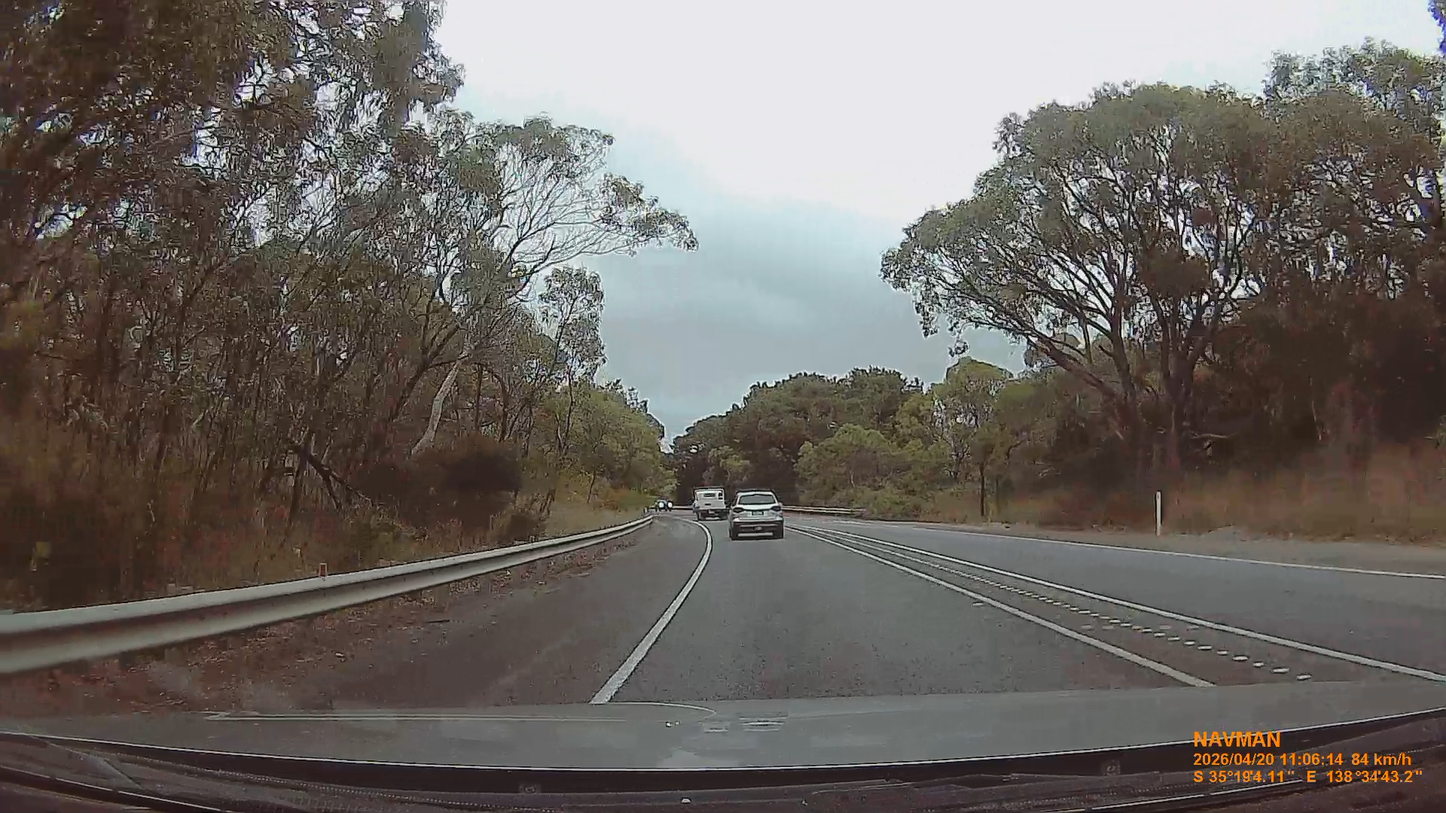road barriers: (0, 515, 654, 677), (785, 505, 863, 517)
